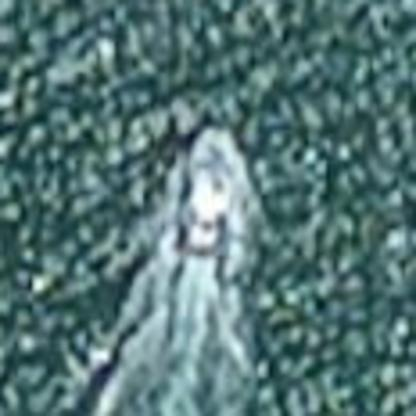ship: (169, 118, 251, 261)
